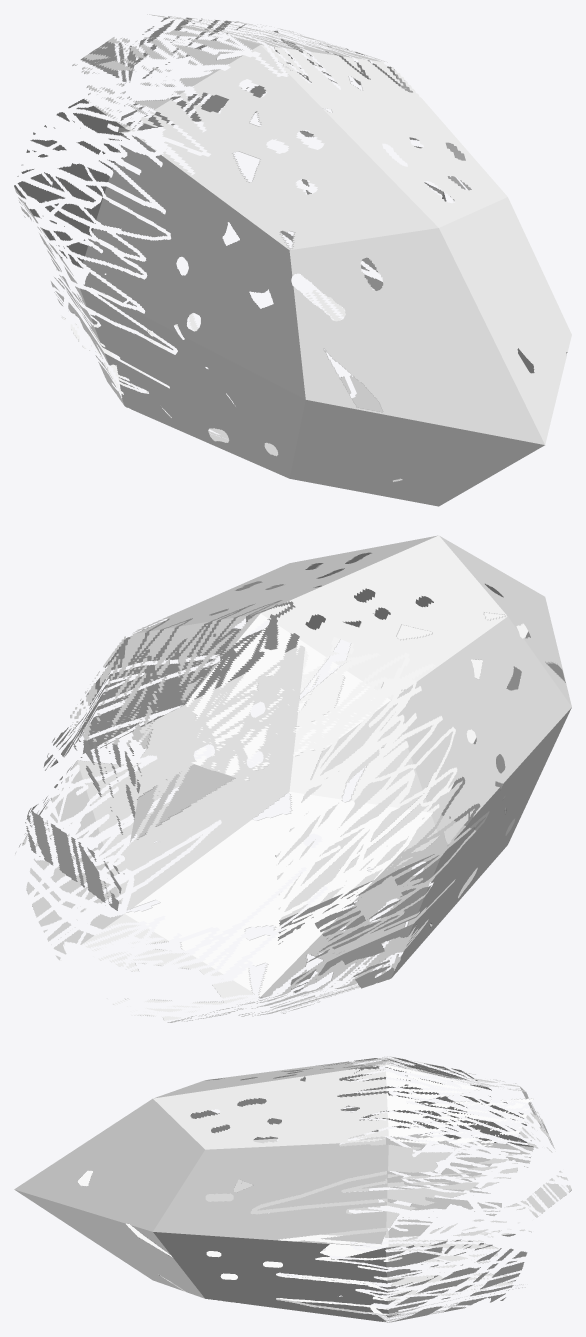
The model's file is Bullet.fbx.
3 renders of one model, top to bottom at view 1: azimuth 30°, elevation 25°; view 2: azimuth 150°, elevation 25°; view 3: azimuth 270°, elevation 25°, orthographic. The views are drawn at different scales.
Visible parts, largest first — view 1: Cube; view 2: Cube; view 3: Cube.
Part boxes in pixels (bbox=[...]): Cube: bbox=[14, 14, 571, 506]; Cube: bbox=[15, 535, 571, 1022]; Cube: bbox=[14, 1056, 571, 1322].
Size of the model in its own units: 168 by 168 by 339.
1 material, 1 textured.
